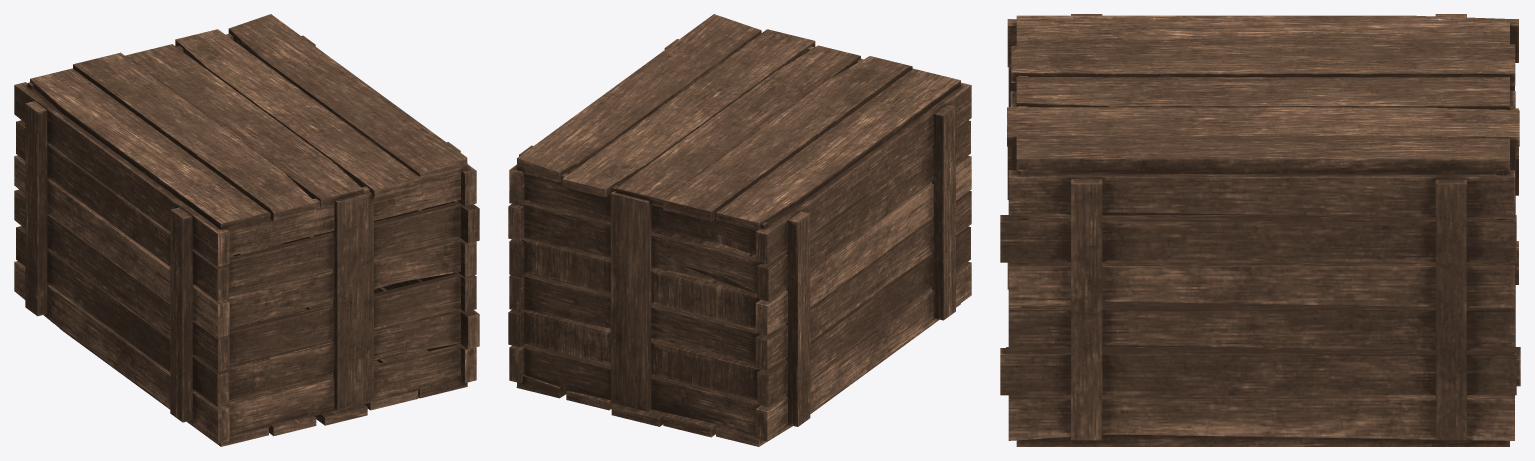
Rendered from cajas_mobile.glb.
3 views of the same model, side by side, from view 1: azimuth 30°, elevation 25°; view 2: azimuth 150°, elevation 25°; view 3: azimuth 270°, elevation 25° (orthographic). The views are drawn at different scales.
Parts seen in each view (by area): view 1: create_three1_create_three_0; view 2: create_three1_create_three_0; view 3: create_three1_create_three_0.
Part boxes in pixels (box(x1,y1,x2,y2)): create_three1_create_three_0: box(14, 14, 479, 446); create_three1_create_three_0: box(508, 14, 971, 446); create_three1_create_three_0: box(1000, 14, 1520, 446).
Size of the model in its own units: 0.621 by 0.4889 by 0.8013.
1 material, 1 textured.
